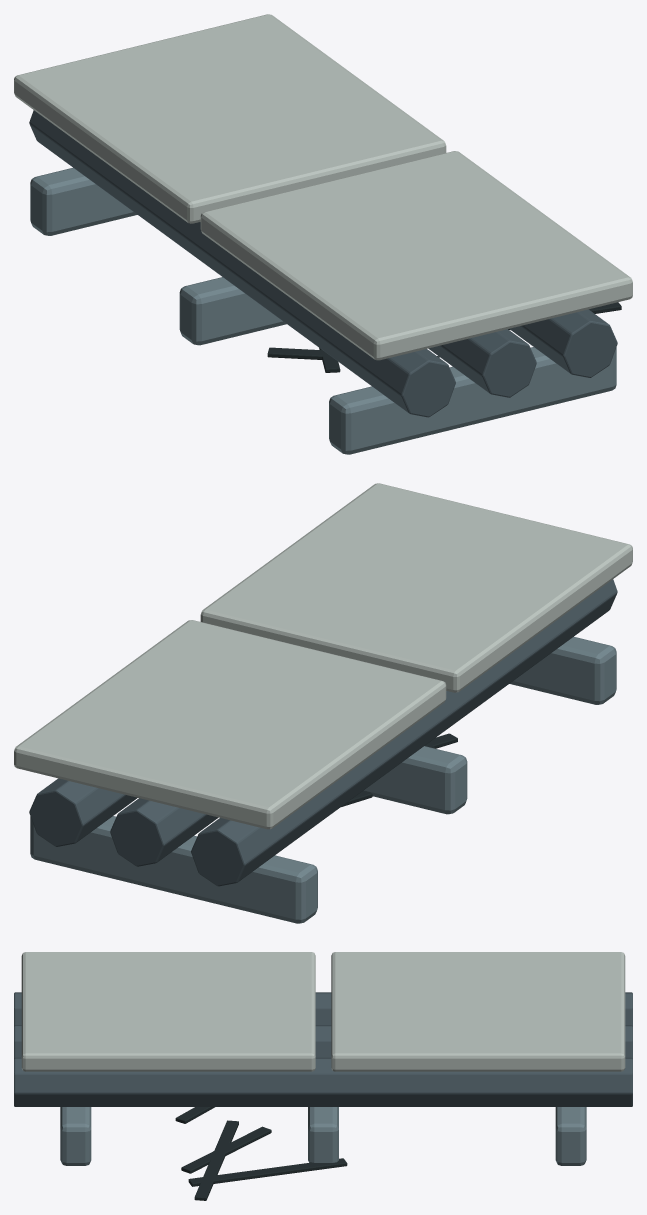
Rendered from utility_conduit_d1.glb.
3 renders of one model, top to bottom at view 1: azimuth 30°, elevation 25°; view 2: azimuth 150°, elevation 25°; view 3: azimuth 270°, elevation 25°, orthographic. The views are drawn at different scales.
Parts seen in each view (by area): view 1: Removable conduit cover.002, Removable conduit cover.003, Service pipe.003, Duct saddle.003, Duct saddle.004, Duct saddle.005, Service pipe.005, Service pipe.004, Scorched impact.299; view 2: Removable conduit cover.003, Removable conduit cover.002, Service pipe.003, Duct saddle.005, Duct saddle.003, Duct saddle.004, Service pipe.005, Service pipe.004; view 3: Removable conduit cover.002, Removable conduit cover.003, Service pipe.005, Duct saddle.003, Duct saddle.005, Duct saddle.004, Scorched impact.301, Service pipe.003, Service pipe.004, Scorched impact.297, Scorched impact.302.
Part boxes in pixels (x1=…): Removable conduit cover.002: x1=200, y1=151, x2=632, y2=360; Removable conduit cover.003: x1=14, y1=14, x2=446, y2=223; Service pipe.003: x1=29, y1=110, x2=455, y2=417; Duct saddle.003: x1=329, y1=347, x2=616, y2=454; Duct saddle.004: x1=179, y1=277, x2=286, y2=345; Duct saddle.005: x1=30, y1=168, x2=137, y2=235; Service pipe.005: x1=509, y1=309, x2=617, y2=377; Service pipe.004: x1=428, y1=329, x2=536, y2=397; Scorched impact.299: x1=267, y1=347, x2=439, y2=359; Removable conduit cover.003: x1=14, y1=620, x2=446, y2=829; Removable conduit cover.002: x1=200, y1=483, x2=632, y2=692; Service pipe.003: x1=191, y1=579, x2=617, y2=886; Duct saddle.005: x1=30, y1=816, x2=317, y2=923; Duct saddle.003: x1=509, y1=637, x2=616, y2=704; Duct saddle.004: x1=364, y1=746, x2=467, y2=814; Service pipe.005: x1=29, y1=778, x2=137, y2=846; Service pipe.004: x1=110, y1=798, x2=218, y2=866; Removable conduit cover.002: x1=21, y1=952, x2=315, y2=1071; Removable conduit cover.003: x1=331, y1=952, x2=625, y2=1071; Service pipe.005: x1=14, y1=1057, x2=632, y2=1106; Duct saddle.003: x1=60, y1=1107, x2=91, y2=1165; Duct saddle.005: x1=555, y1=1107, x2=586, y2=1165; Duct saddle.004: x1=308, y1=1107, x2=338, y2=1162; Scorched impact.301: x1=188, y1=1158, x2=347, y2=1186; Service pipe.003: x1=14, y1=992, x2=632, y2=1025; Service pipe.004: x1=14, y1=1025, x2=632, y2=1058; Scorched impact.297: x1=194, y1=1120, x2=238, y2=1200; Scorched impact.302: x1=181, y1=1126, x2=271, y2=1173.
Size of the model in its own units: 2.23 by 0.785 by 4.
